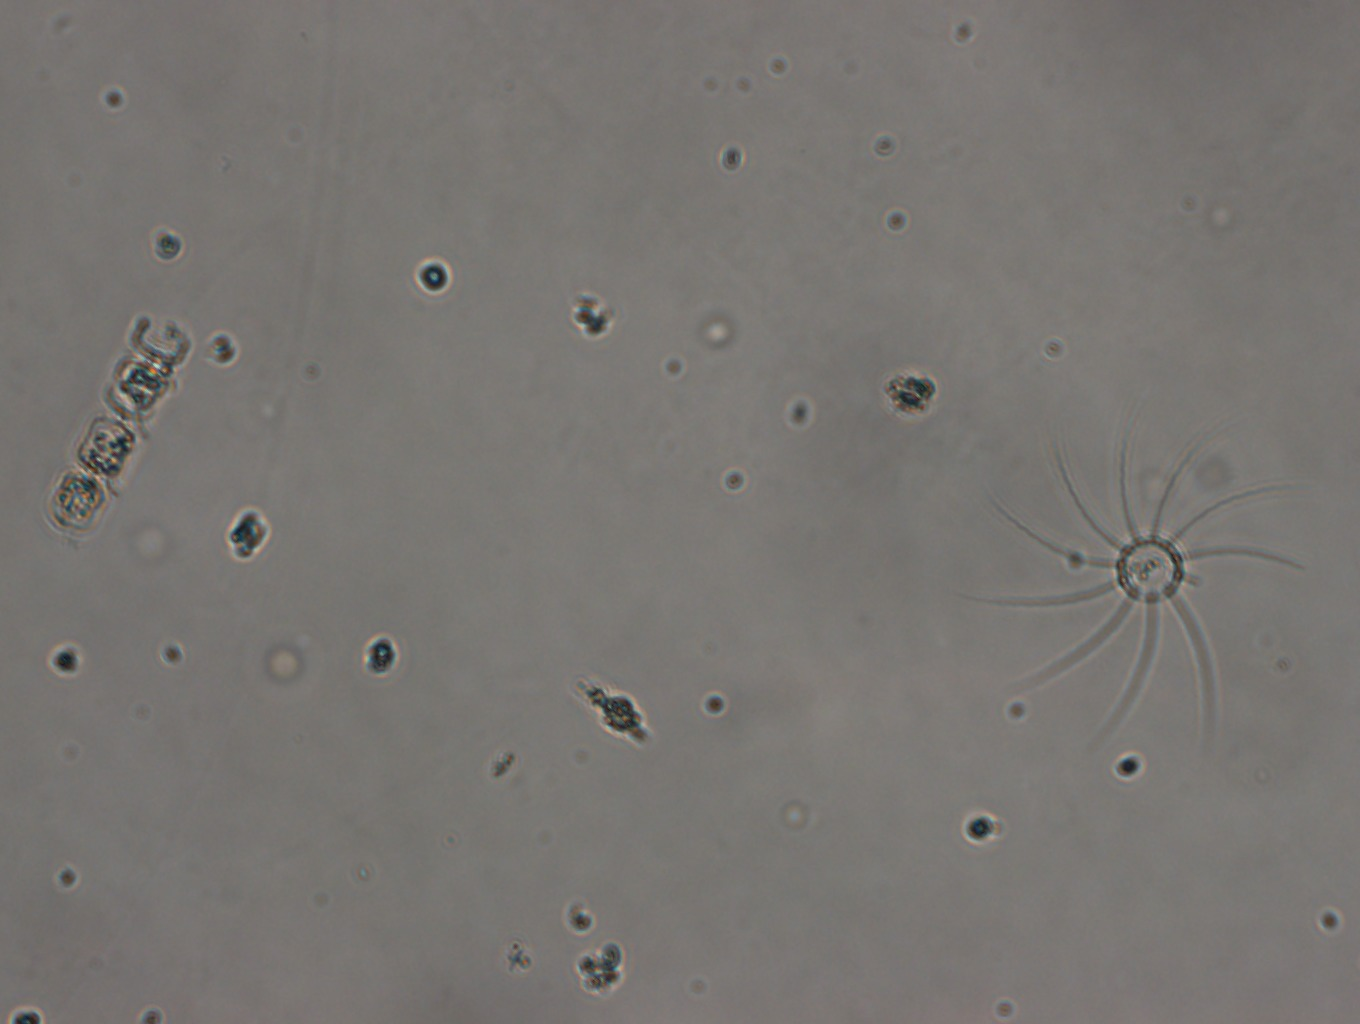bacteriastrum: (986, 438, 1333, 748)
